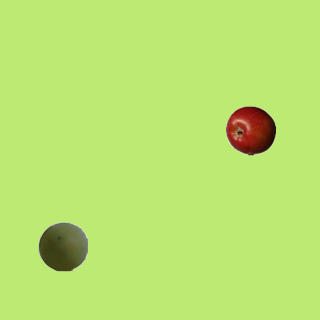Apple Braeburn: (225, 105, 275, 155)
Grape White 4: (37, 221, 87, 271)
